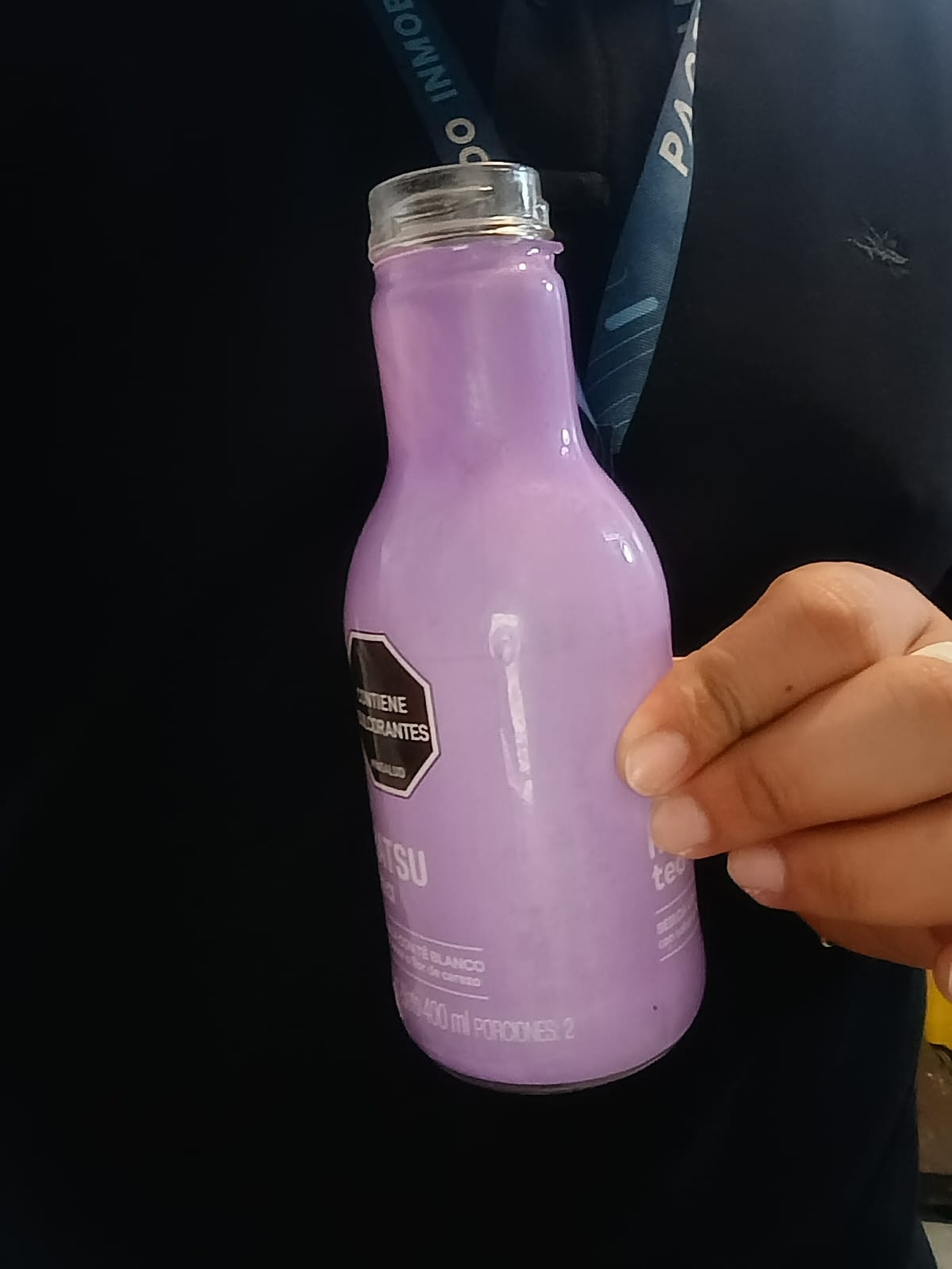Vidrio: (338, 163, 698, 1090)
